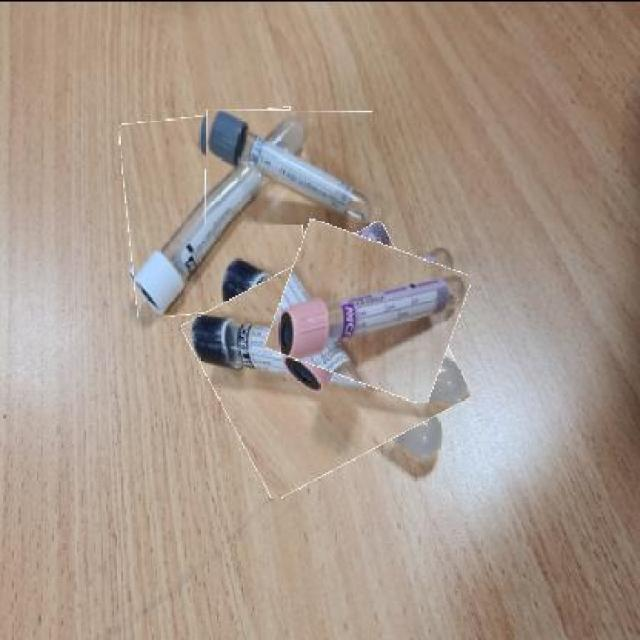Experimental-tube: (197, 239, 457, 479), (124, 110, 305, 313), (274, 229, 463, 391), (206, 108, 374, 225)
